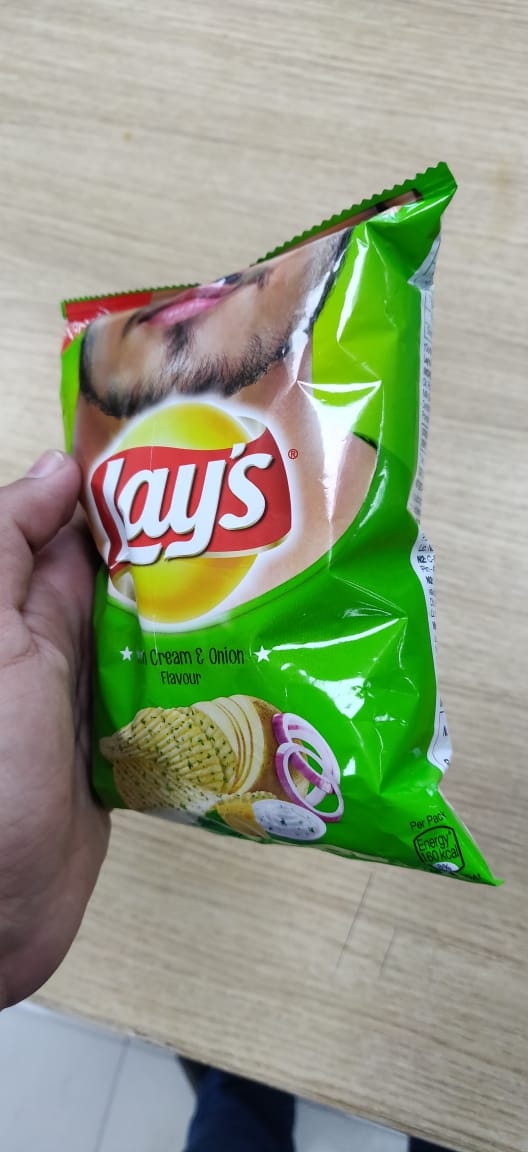lays chips: (45, 148, 505, 904)
